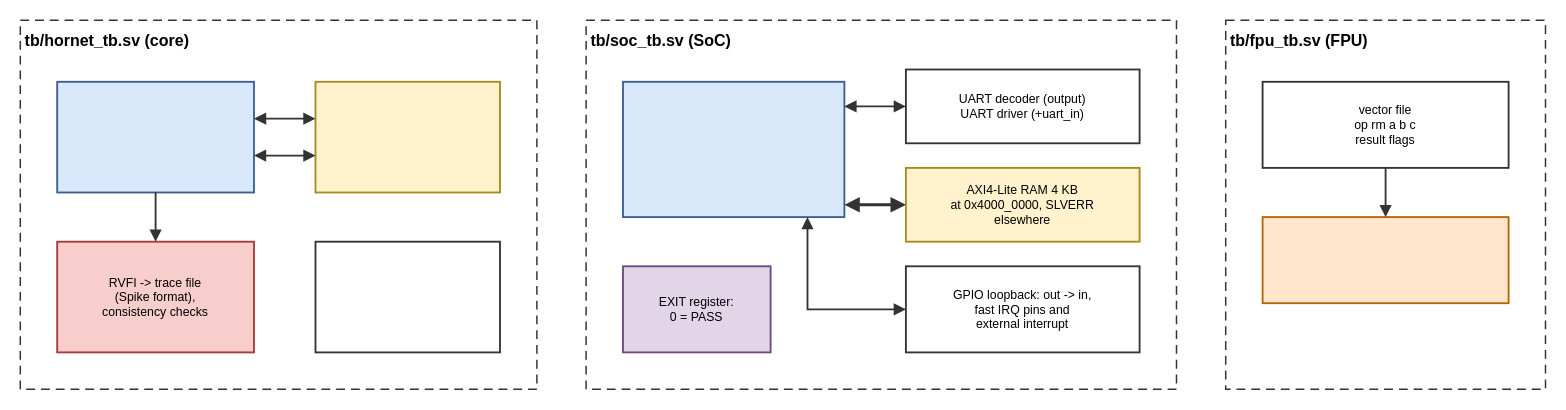
Image size: 1566x410. Some labels were removed from this diagram. The centre of each missing label's shape, as x and y in pixels:
"4 MB memory at 0x8000_0000 random grant and response delays" goes at [407,136].
"devices: tohost, interrupt lines (0xF000_0000), bus-error region" goes at [407,296].
"fpu_top bit-exact compare of result and flags" goes at [1385,260].
"hornet_core" goes at [155,136].
"hornet_soc IMEM/DMEM images" goes at [733,148].
